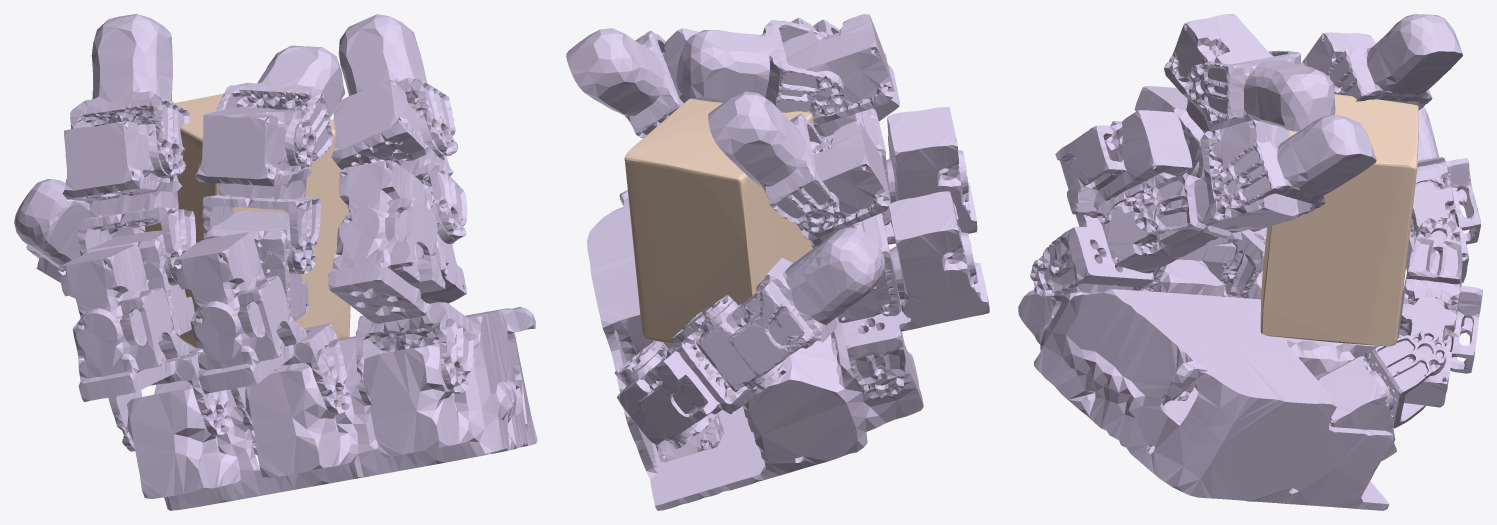
Rendered from 653412b28bea1c-final.glb.
The picture shows the model from 3 angles, left to right: view 1: azimuth 30°, elevation 25°; view 2: azimuth 150°, elevation 25°; view 3: azimuth 270°, elevation 25°; orthographic projection. The views are drawn at different scales.
Parts seen in each view (by area): view 1: LEAP_hand, world; view 2: LEAP_hand, world; view 3: LEAP_hand, world.
Boxes of the visible parts, x1,y1,x2,y2 form: LEAP_hand: [14, 14, 537, 510]; world: [145, 93, 350, 348]; LEAP_hand: [566, 14, 989, 510]; world: [624, 98, 813, 343]; LEAP_hand: [1018, 14, 1482, 510]; world: [1260, 94, 1418, 346].
Size of the model in its own units: 0.1643 by 0.1796 by 0.1709.
